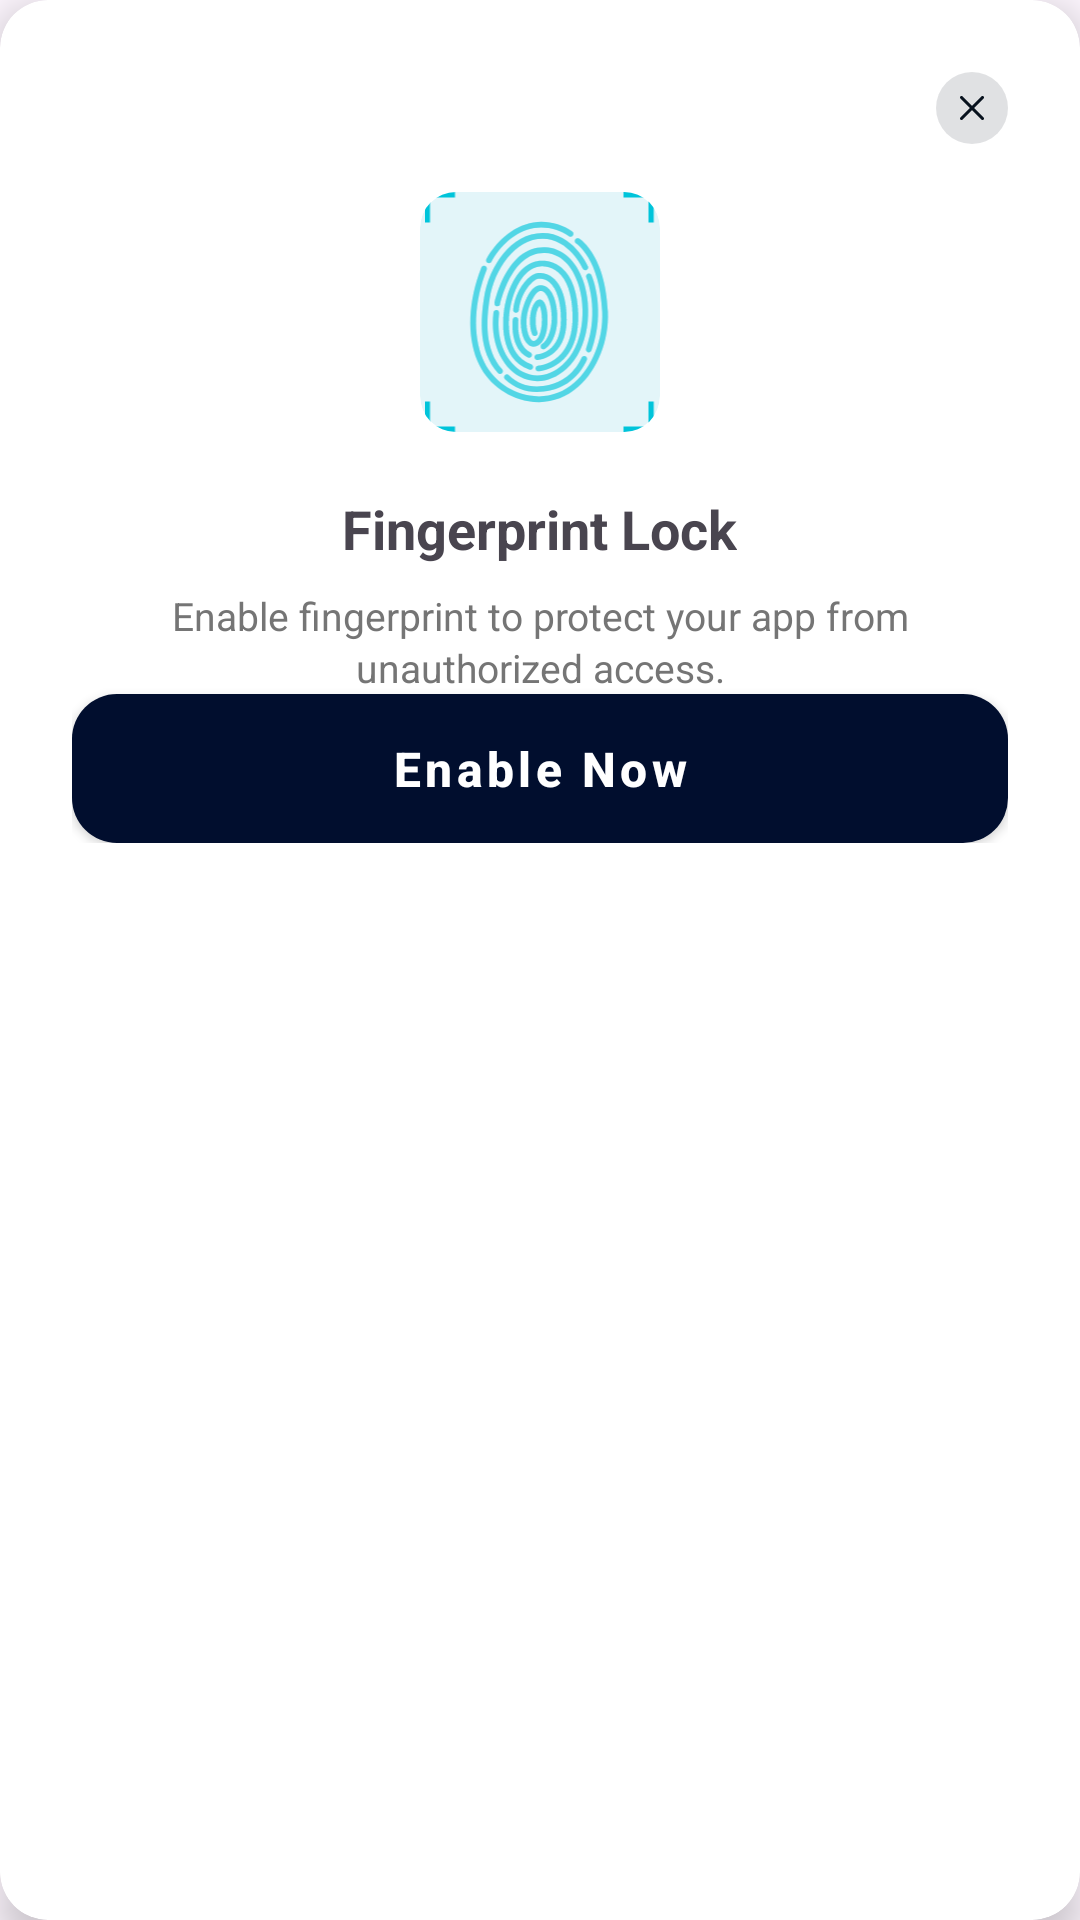

Screen size 1080x1920. Icon name, then its center in pixels as (x=x, y=y):
close: (x=972, y=108)
